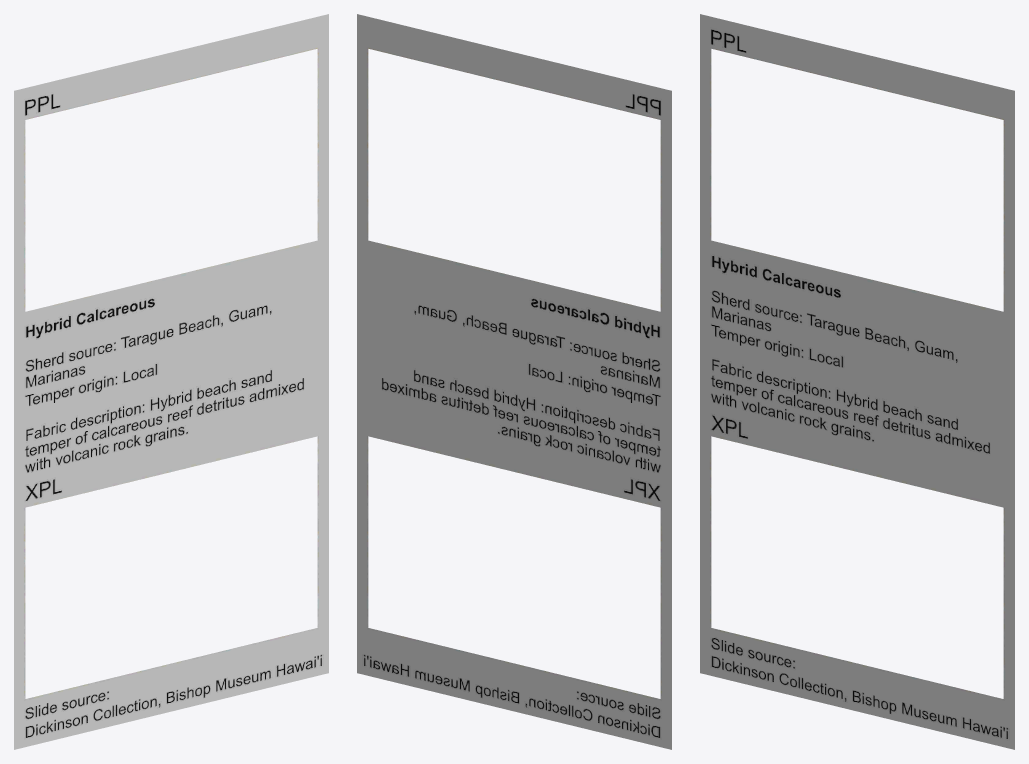
File: wd_8_12_frame.glb
3 renders of one model, left to right at view 1: azimuth 30°, elevation 25°; view 2: azimuth 150°, elevation 25°; view 3: azimuth 330°, elevation 25°, orthographic.
Parts seen in each view (by area): view 1: WD_8_12; view 2: WD_8_12; view 3: WD_8_12.
Boxes of the visible parts, box(x1,y1,x2,y2) form: WD_8_12: box(14, 14, 328, 749); WD_8_12: box(357, 14, 671, 749); WD_8_12: box(700, 14, 1014, 749).
Bounding box in the file's own units: 0.5 × 1 × 4.37e-08.
1 material, 1 textured.
